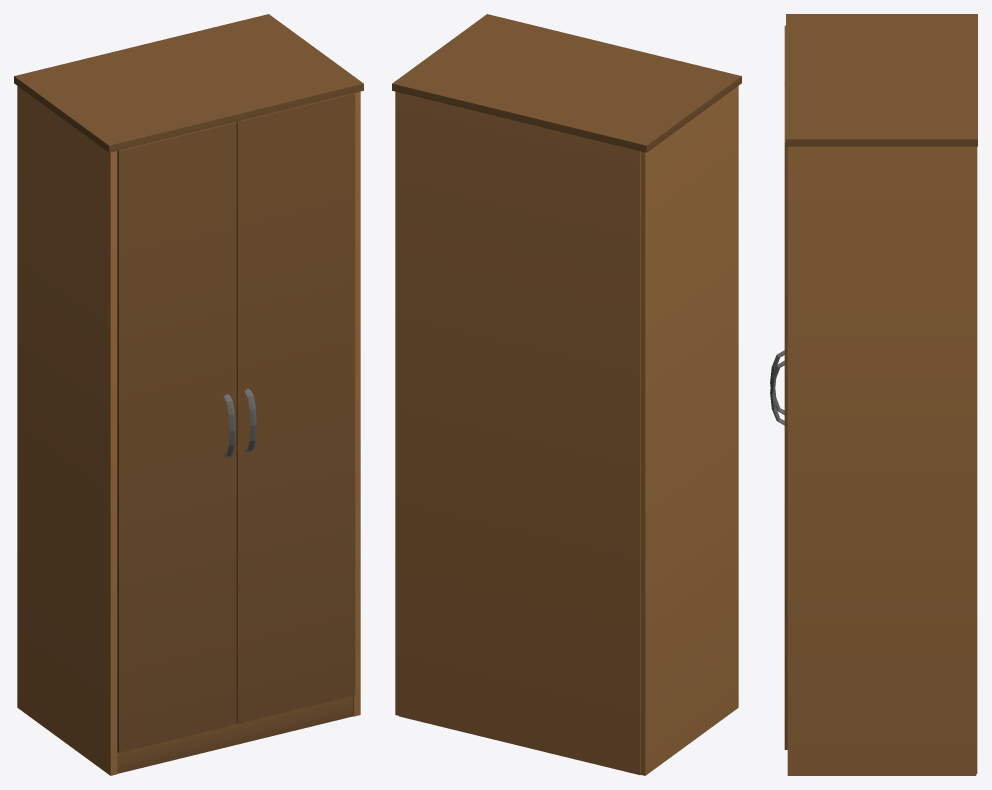
The model's file is Prop_Wardrobe_01.obj.
The picture shows the model from 3 angles, left to right: view 1: azimuth 30°, elevation 25°; view 2: azimuth 150°, elevation 25°; view 3: azimuth 270°, elevation 25°; orthographic projection.
Visible parts, largest first — view 1: Prop_Wardrobe_01, Prop_Wardrobe_Left_01, Prop_Wardrobe_Right_01; view 2: Prop_Wardrobe_01; view 3: Prop_Wardrobe_01, Prop_Wardrobe_Right_01.
Part boxes in pixels (x1=…): Prop_Wardrobe_01: x1=14, y1=14, x2=363, y2=775; Prop_Wardrobe_Left_01: x1=117, y1=122, x2=236, y2=752; Prop_Wardrobe_Right_01: x1=236, y1=93, x2=355, y2=723; Prop_Wardrobe_01: x1=392, y1=14, x2=741, y2=775; Prop_Wardrobe_01: x1=786, y1=14, x2=977, y2=775; Prop_Wardrobe_Right_01: x1=770, y1=84, x2=787, y2=749.
Bounding box in the file's own units: 0.7639 × 1.81 × 0.5347.
Materials: 1 (1 with a texture image).
